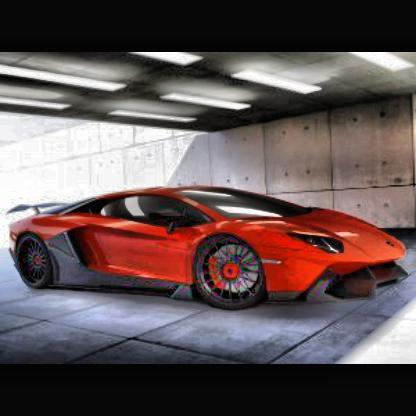Lamborghini Aventador Coupe 2012: (8, 191, 405, 318)
